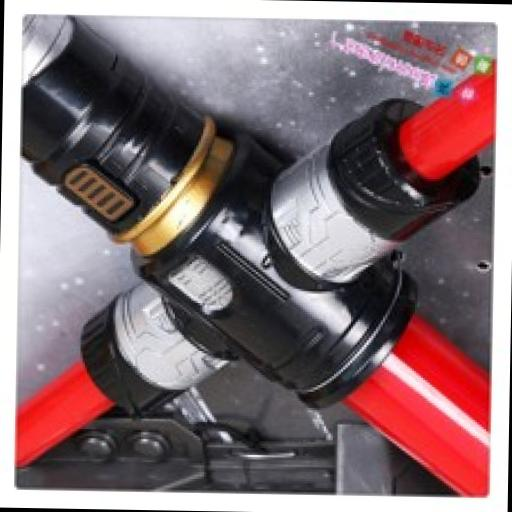sith saber: (16, 14, 497, 496)
